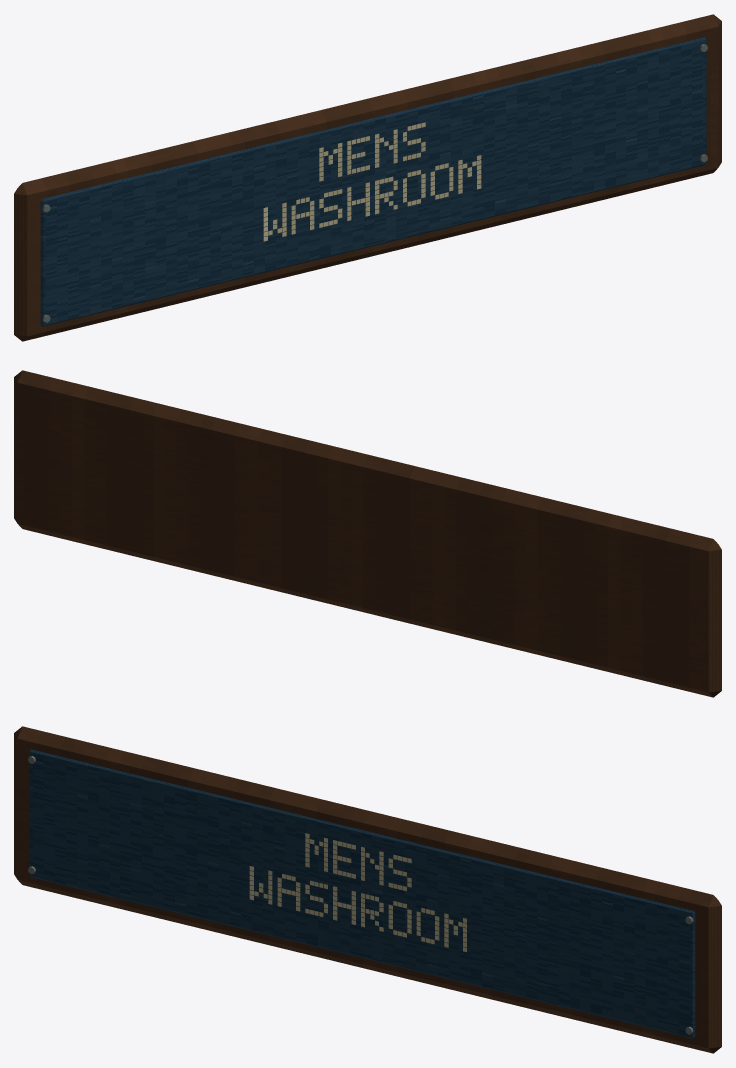
File: level_sign_mens.glb
3 views of the same model, one above another, from view 1: azimuth 30°, elevation 25°; view 2: azimuth 150°, elevation 25°; view 3: azimuth 330°, elevation 25° (orthographic).
Visible parts, largest first — view 1: level_sign_mens; view 2: level_sign_mens; view 3: level_sign_mens.
Boxes of the visible parts, left/top/right/bottom form: level_sign_mens: left=14, top=14, right=721, bottom=341; level_sign_mens: left=14, top=370, right=721, bottom=697; level_sign_mens: left=14, top=726, right=721, bottom=1053.
Size of the model in its own units: 1.68 by 0.36 by 0.053.
4 materials, 4 textured.
